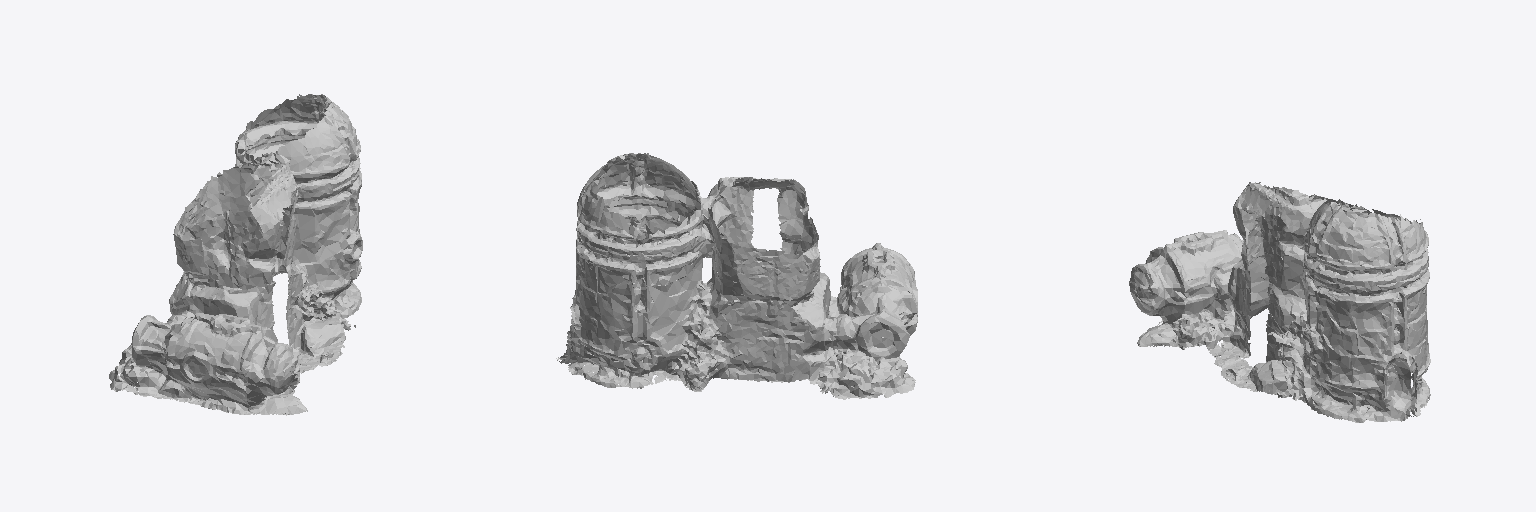
Rendered from domenew_1.obj.
The picture shows the model from 3 angles: view 1: azimuth 30°, elevation 25°; view 2: azimuth 150°, elevation 25°; view 3: azimuth 270°, elevation 25°; orthographic projection.
Visible parts, largest first — view 1: NewDomeLO_1; view 2: NewDomeLO_1; view 3: NewDomeLO_1.
Boxes of the visible parts, x1,y1,x2,y2 form: NewDomeLO_1: [109, 94, 362, 415]; NewDomeLO_1: [556, 153, 917, 399]; NewDomeLO_1: [1129, 182, 1430, 422].
Size of the model in its own units: 5663 by 3753 by 5093.